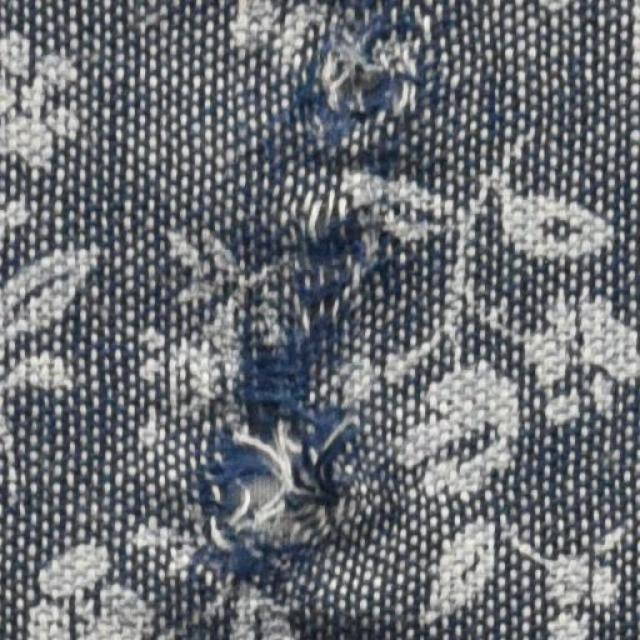Hole: (213, 438, 280, 537)
Snag: (216, 0, 439, 531)
